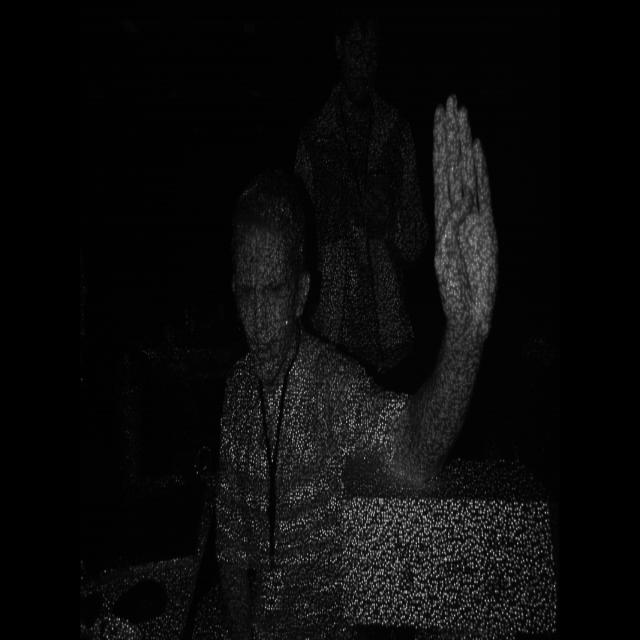B: (417, 79, 522, 349)
